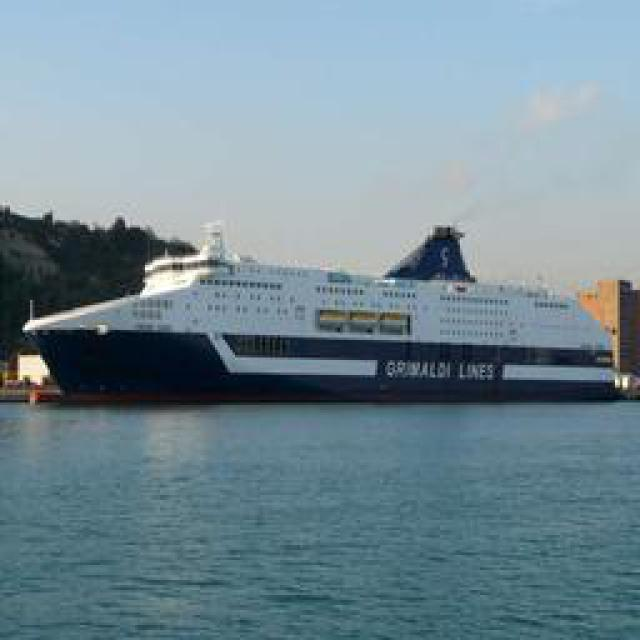Ship: (17, 223, 630, 411)
